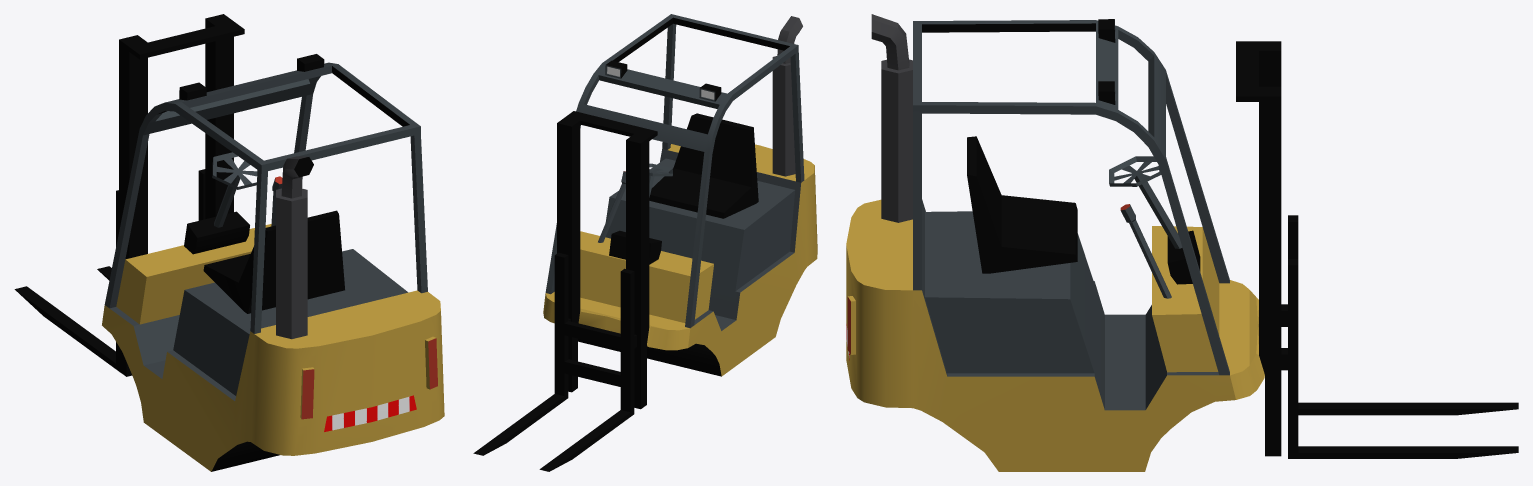
The model's file is loader.fbx.
The picture shows the model from 3 angles, left to right: view 1: azimuth 30°, elevation 25°; view 2: azimuth 150°, elevation 25°; view 3: azimuth 270°, elevation 25°; orthographic projection. The views are drawn at different scales.
Parts seen in each view (by area): view 1: loader; view 2: loader; view 3: loader.
Part boxes in pixels (x1,y1,x2,y2): loader: [14, 14, 444, 471]; loader: [473, 14, 817, 471]; loader: [846, 14, 1518, 471].
Bounding box in the file's own units: 0.6429 × 1.21 × 1.91.
